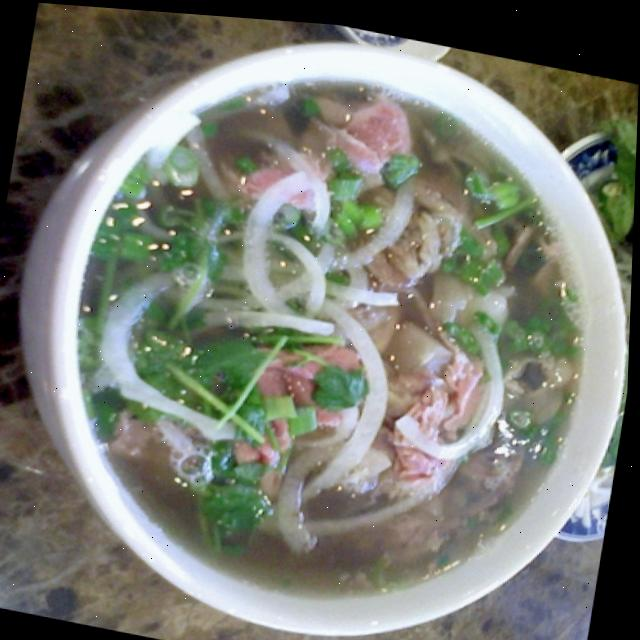面条主食: (10, 13, 640, 640)
